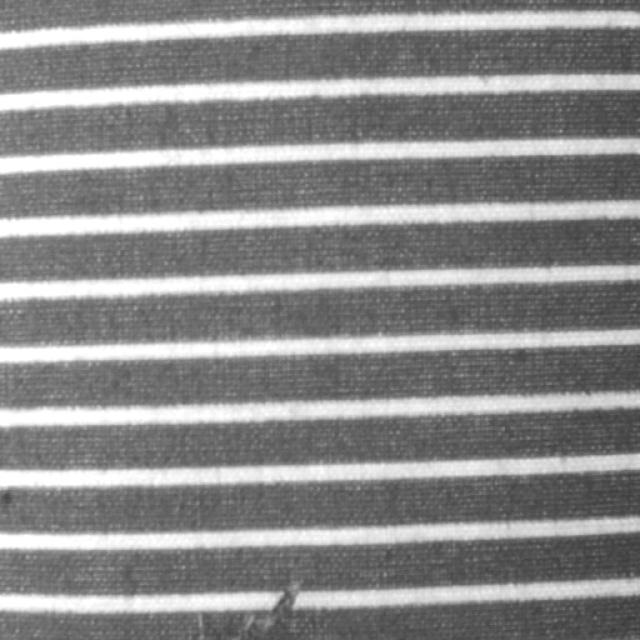Foreign-Body-Defect: (202, 556, 315, 639)
